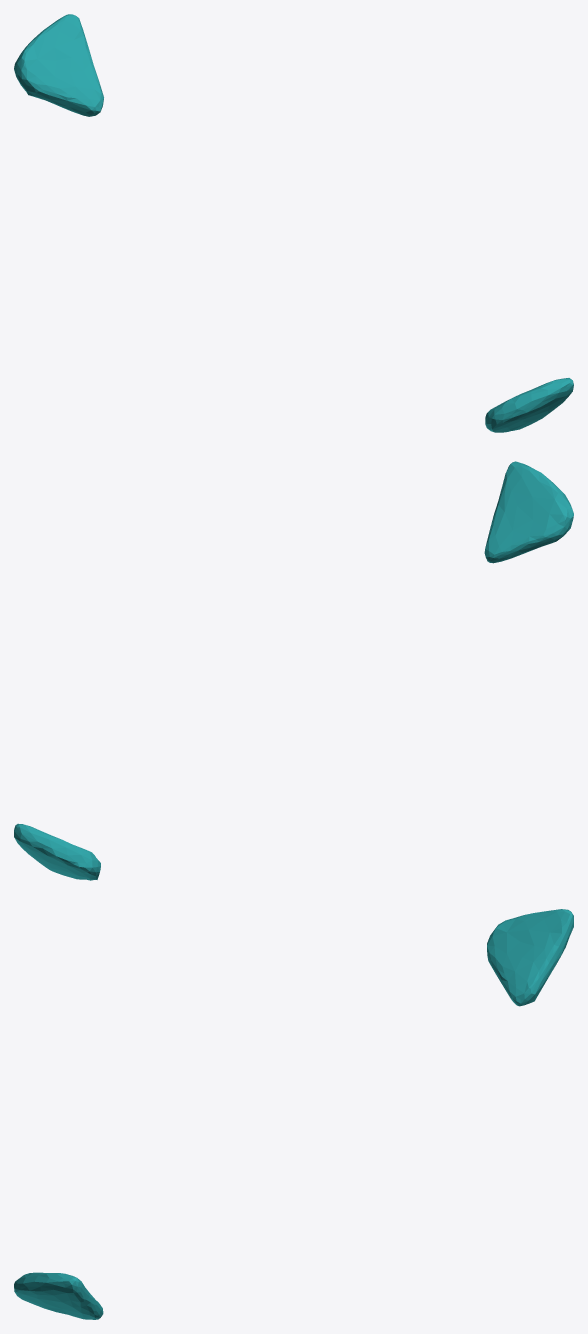
3 renders of one model, top to bottom at view 1: azimuth 30°, elevation 25°; view 2: azimuth 150°, elevation 25°; view 3: azimuth 330°, elevation 25°, orthographic.
Visible parts, largest first — view 1: 905.obj; view 2: 905.obj; view 3: 905.obj.
Boxes of the visible parts, bbox=[...] form: 905.obj: bbox=[14, 14, 573, 432]; 905.obj: bbox=[14, 461, 573, 880]; 905.obj: bbox=[14, 909, 573, 1319].
Size of the model in its own units: 696 by 665 by 8260.
